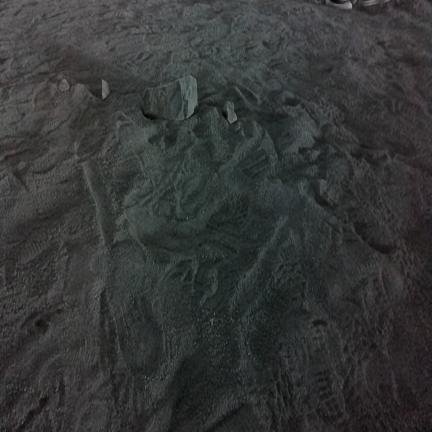Rock: (141, 75, 197, 120), (223, 101, 237, 123), (102, 80, 109, 99), (59, 79, 69, 91)
